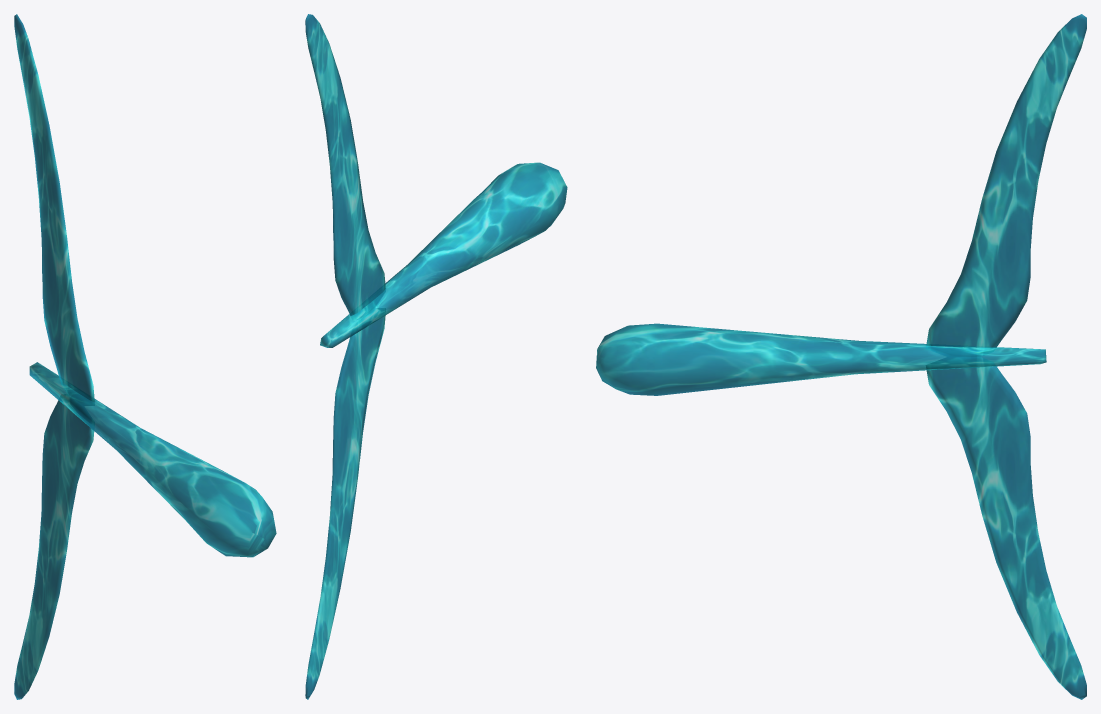
The model's file is fish_tail.obj.
The picture shows the model from 3 angles, left to right: view 1: azimuth 30°, elevation 25°; view 2: azimuth 150°, elevation 25°; view 3: azimuth 270°, elevation 25°; orthographic projection.
Parts seen in each view (by area): view 1: Group17485, Line002, Line003; view 2: Group17485, Line003, Line002; view 3: Group17485, Line002, Line003.
Part boxes in pixels (x1,y1,x2,y2): Group17485: [29, 362, 276, 557]; Line002: [14, 14, 94, 405]; Line003: [14, 394, 94, 699]; Group17485: [320, 162, 567, 347]; Line003: [305, 308, 385, 699]; Line002: [305, 14, 385, 319]; Group17485: [596, 323, 1046, 395]; Line002: [926, 14, 1086, 356]; Line003: [926, 357, 1086, 699].
Bounding box in the file's own units: 0.7534 × 7.9 × 5.13.
